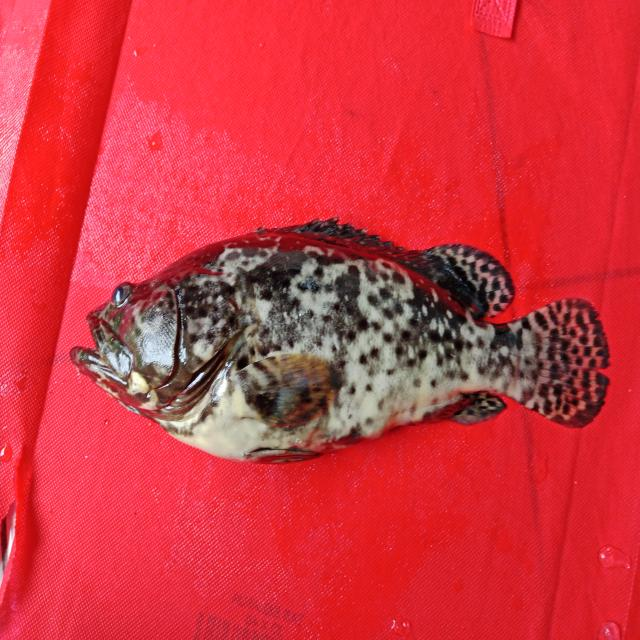ikan: (59, 179, 619, 487)
